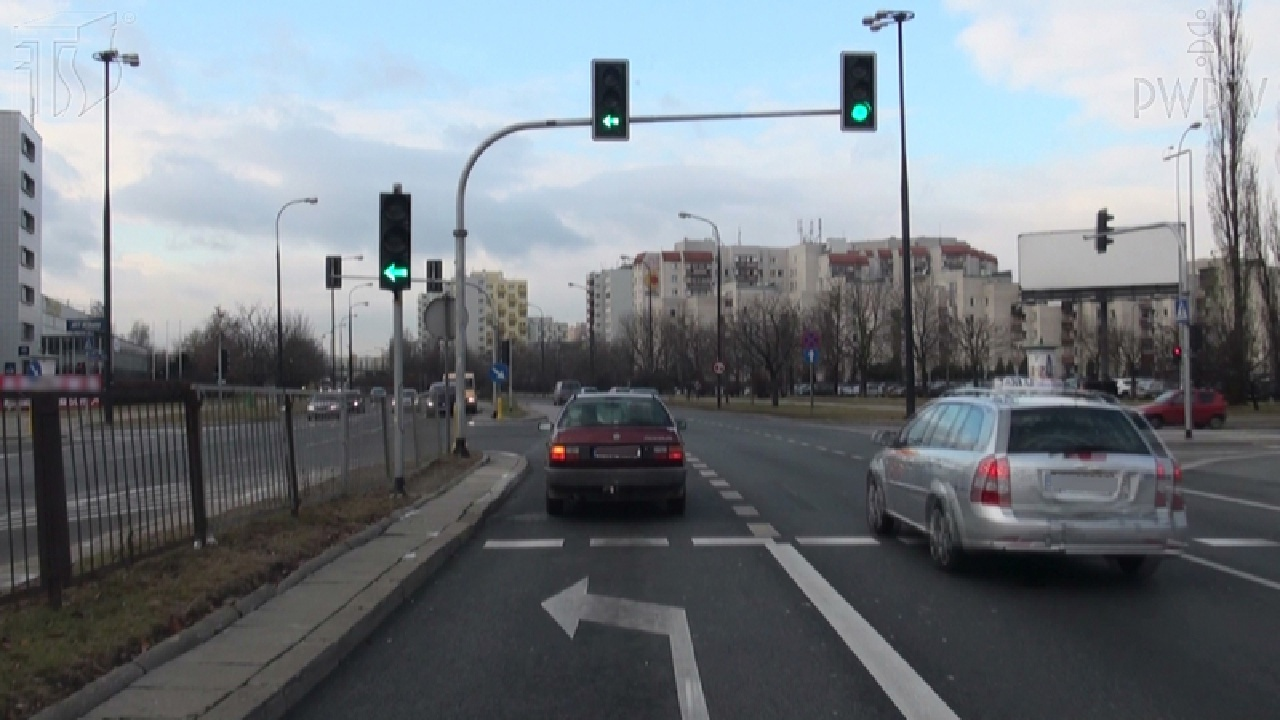Green: (839, 51, 878, 133), (378, 192, 410, 291), (592, 59, 630, 141)
